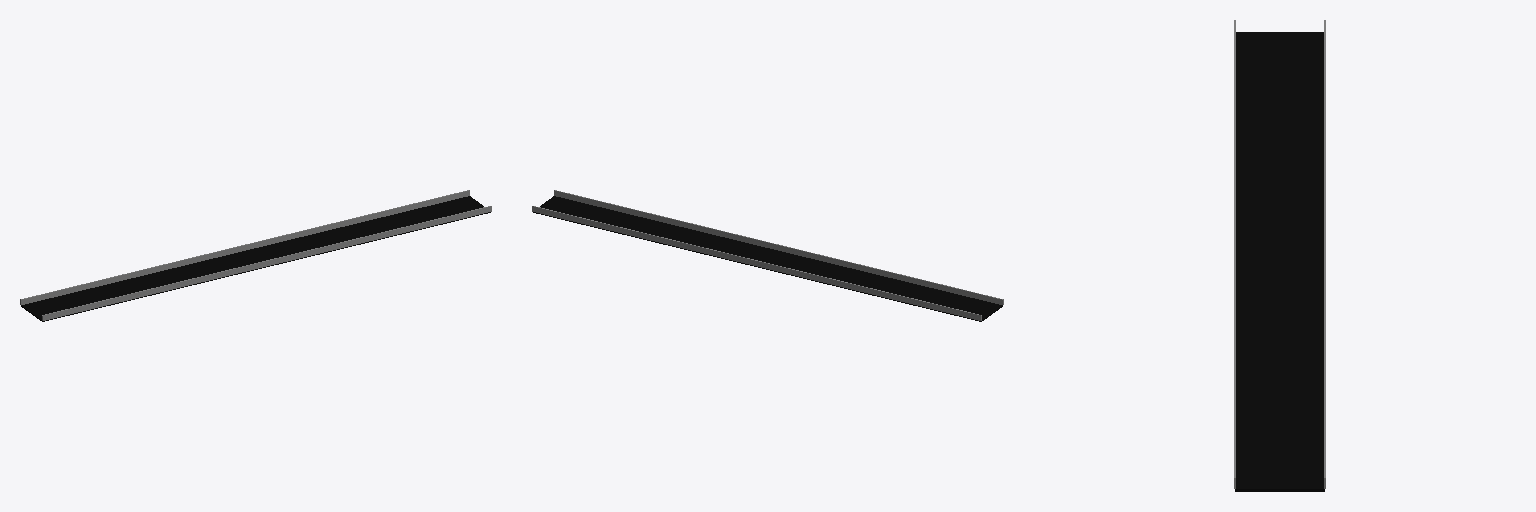
The robot description file, URDF, robot "rail1":
<?xml version="1.0"?>
<!-- created with Phobos 1.0.1 "Capricious Choutengan" -->
  <robot name="rail1">

    <link name="Untitled.066">
      <inertial>
        <origin xyz="0 0 0" rpy="0 0 0"/>
        <mass value="10.0"/>
        <inertia ixx="3.97402" ixy="0" ixz="0" iyy="0.02757" iyz="0" izz="2e-05"/>
      </inertial>
      <visual name="Cube.016">
        <origin xyz="0 0 0" rpy="0 0 0"/>
        <geometry>
          <box size="4.2 0.35 0.01"/>
        </geometry>
        <material name="Material.046"/>
      </visual>
      <collision name="Cube.016">
        <origin xyz="0 0 0" rpy="0 0 0"/>
        <geometry>
          <box size="4.2 0.35 0.01"/>
        </geometry>
      </collision>
    </link>

    <link name="Untitled.067">
      <inertial>
        <origin xyz="0 0 0" rpy="0 0 0"/>
        <mass value="1.0"/>
        <inertia ixx="0.00856" ixy="0" ixz="0" iyy="2e-05" iyz="0" izz="2e-05"/>
      </inertial>
      <visual name="Cube.018">
        <origin xyz="0 0 0" rpy="0 0 0"/>
        <geometry>
          <box size="4.2 0.01 0.05"/>
        </geometry>
        <material name="Material.047"/>
      </visual>
      <collision name="Cube.018">
        <origin xyz="0 0 0" rpy="0 0 0"/>
        <geometry>
          <box size="4.2 0.01 0.05"/>
        </geometry>
      </collision>
    </link>

    <link name="Untitled.068">
      <inertial>
        <origin xyz="0 0 0" rpy="0 0 0"/>
        <mass value="1.0"/>
        <inertia ixx="0.00856" ixy="0" ixz="0" iyy="2e-05" iyz="0" izz="2e-05"/>
      </inertial>
      <visual name="Cube.018">
        <origin xyz="0 0 0" rpy="0 0 0"/>
        <geometry>
          <box size="4.2 0.01 0.05"/>
        </geometry>
        <material name="Material.047"/>
      </visual>
      <collision name="Cube.018">
        <origin xyz="0 0 0" rpy="0 0 0"/>
        <geometry>
          <box size="4.2 0.01 0.05"/>
        </geometry>
      </collision>
    </link>

    <joint name="Untitled.067" type="fixed">
      <origin xyz="0 0.175 0.03" rpy="0 0 0"/>
      <parent link="Untitled.066"/>
      <child link="Untitled.067"/>
    </joint>

    <joint name="Untitled.068" type="fixed">
      <origin xyz="0 -0.175 0.03" rpy="0 0 0"/>
      <parent link="Untitled.066"/>
      <child link="Untitled.068"/>
    </joint>

    <material name="Material.046">
      <color rgba="0.08 0.08 0.08 1.0"/>
    </material>

    <material name="Material.047">
      <color rgba="0.56 0.56 0.56 1.0"/>
    </material>

  </robot>

--- What the picture shows (computed from the rendered views, not written in the file) ---
The picture shows the robot from 3 angles, left to right: view 1: azimuth 30°, elevation 25°; view 2: azimuth 150°, elevation 25°; view 3: azimuth 270°, elevation 25°; orthographic projection.
Model rail1 with 3 links and 2 joints (2 fixed), rooted at Untitled.066, posed all joints at 0.
Visible links, largest first — view 1: Untitled.066, Untitled.068, Untitled.067; view 2: Untitled.066, Untitled.067, Untitled.068; view 3: Untitled.066, Untitled.067, Untitled.068.
Boxes of the visible links, bbox=[...] form: Untitled.066: bbox=[21, 196, 490, 321]; Untitled.068: bbox=[42, 206, 491, 320]; Untitled.067: bbox=[20, 190, 469, 304]; Untitled.066: bbox=[533, 196, 1002, 321]; Untitled.067: bbox=[532, 206, 981, 320]; Untitled.068: bbox=[554, 190, 1003, 304]; Untitled.066: bbox=[1235, 32, 1324, 491]; Untitled.067: bbox=[1324, 20, 1325, 488]; Untitled.068: bbox=[1234, 20, 1235, 488].
Size in the robot's own frame: 4.2 by 0.36 by 0.06 metres.
Geometry: primitives only (box / cylinder / sphere), no mesh files.
